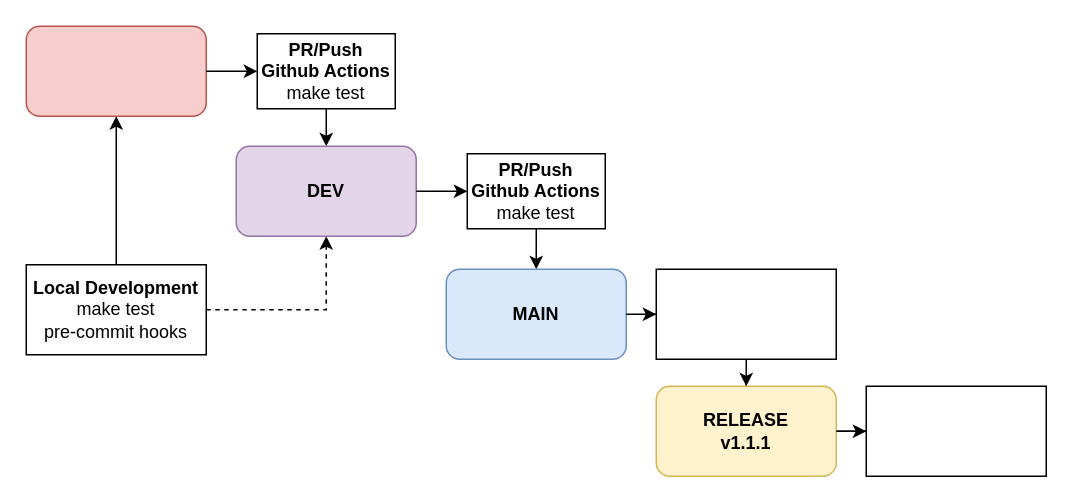
Some shapes in this 1073 by 503 pixel diagram are drawn without their labels. Here are the shapes that lost their labels. From the top down, the centre of each, then its label:
point 115,70: xyz_branch
point 745,313: Release Drafter
point 955,430: Publish make package
